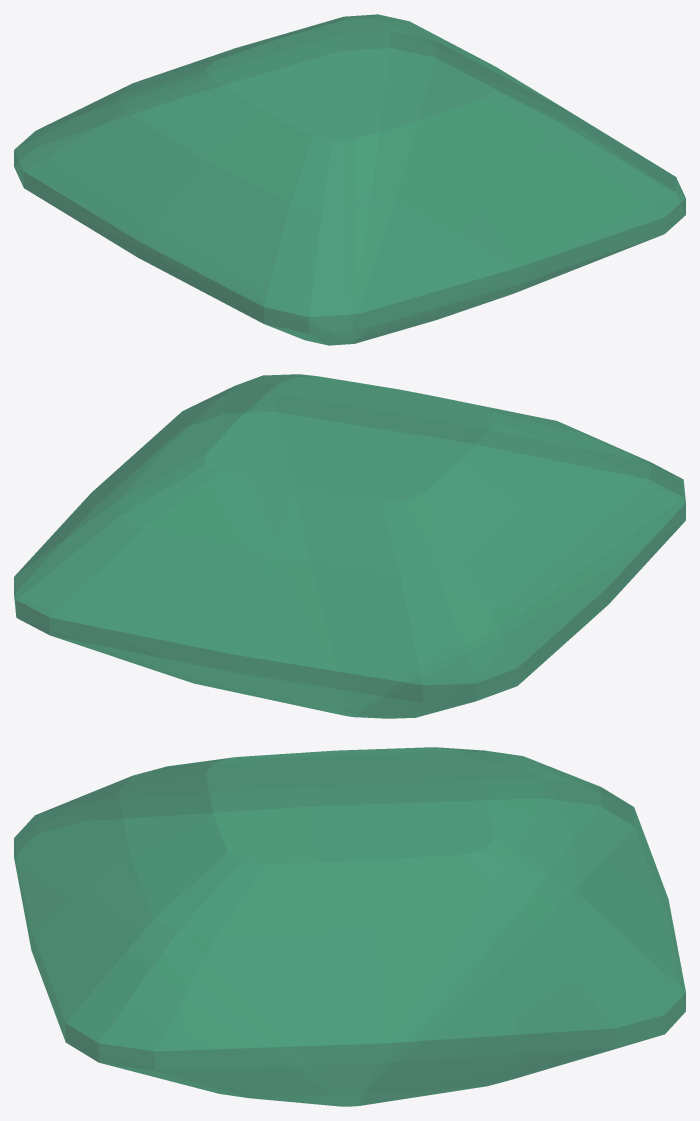
Rendered from stone-emerald.glb.
3 renders of one model, top to bottom at view 1: azimuth 30°, elevation 25°; view 2: azimuth 150°, elevation 25°; view 3: azimuth 270°, elevation 25°, orthographic. The views are drawn at different scales.
Visible parts, largest first — view 1: Sculpture; view 2: Sculpture; view 3: Sculpture.
Part boxes in pixels (x1=…): Sculpture: x1=14, y1=14, x2=685, y2=345; Sculpture: x1=14, y1=374, x2=685, y2=718; Sculpture: x1=14, y1=747, x2=685, y2=1106.
Size of the model in its own units: 2.11 by 1.07 by 2.2.
